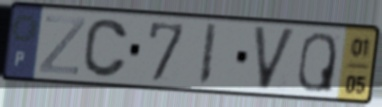7: (145, 20, 188, 83)
C: (81, 17, 130, 80)
I: (196, 21, 220, 89)
Q: (295, 30, 339, 95)
V: (250, 24, 299, 94)
Z: (36, 13, 89, 78)
